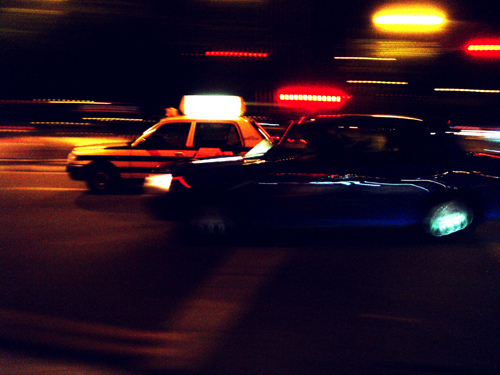car: (64, 91, 276, 196)
